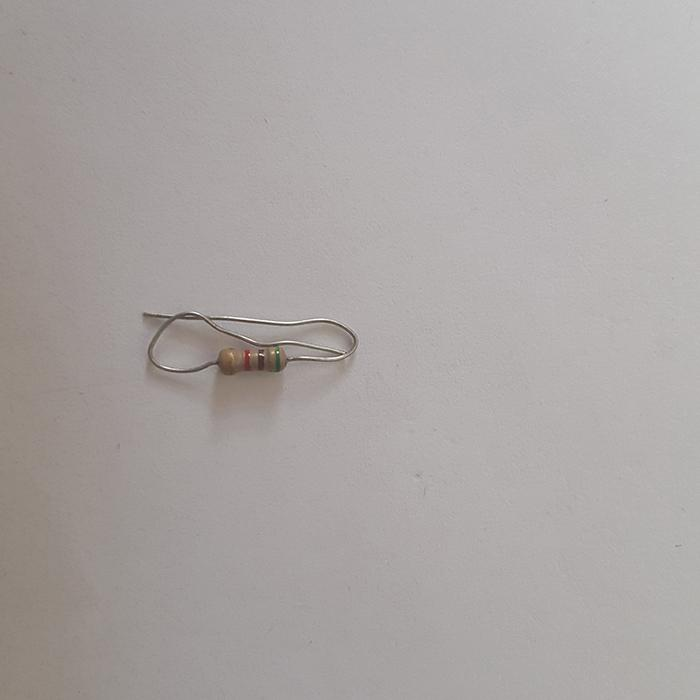resistor: (217, 345, 289, 374)
